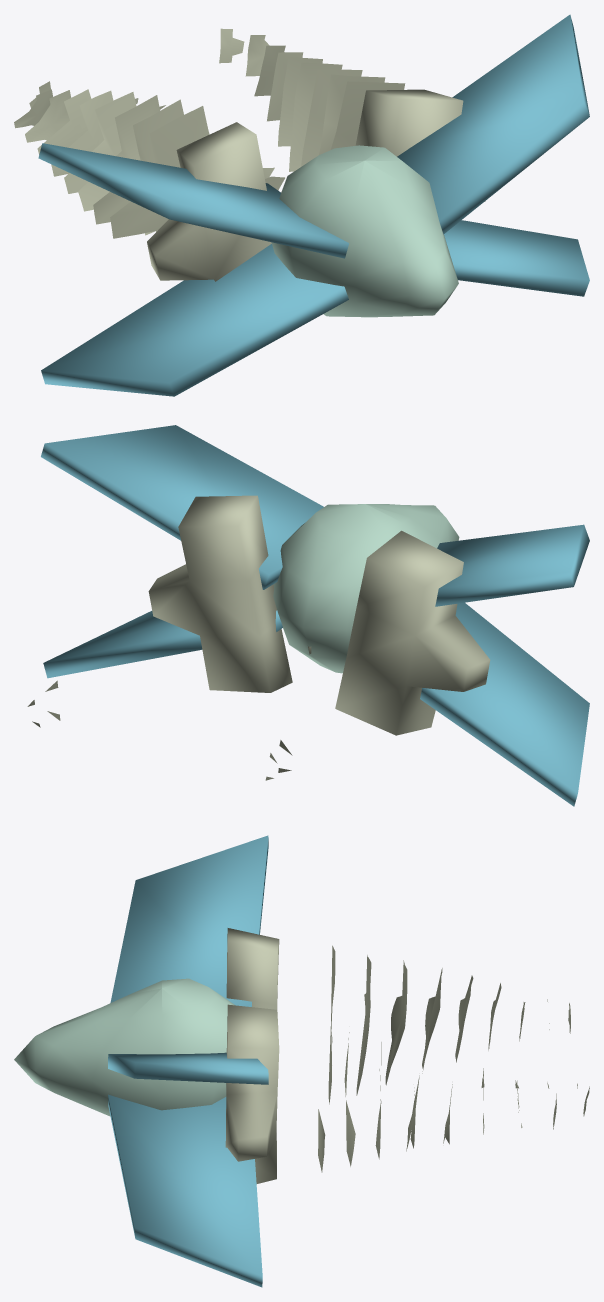
Rendered from ship_33.gltf.
3 views of the same model, one above another, from view 1: azimuth 30°, elevation 25°; view 2: azimuth 150°, elevation 25°; view 3: azimuth 270°, elevation 25° (orthographic). The views are drawn at different scales.
Visible parts, largest first — view 1: gtlf; view 2: gtlf; view 3: gtlf.
Part boxes in pixels (x1=…): gtlf: x1=14, y1=14, x2=589, y2=396; gtlf: x1=27, y1=425, x2=589, y2=806; gtlf: x1=14, y1=835, x2=589, y2=1287.
Size of the model in its own units: 2.07 by 0.8787 by 2.11.
